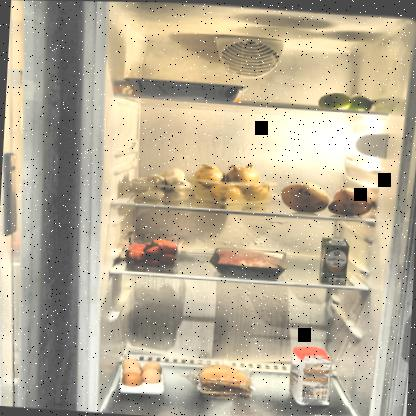eggs: (119, 355, 164, 387)
ground_beef: (208, 243, 290, 279)
heavy_cream: (318, 234, 349, 283)
lime: (316, 90, 376, 111)
mushrooms: (130, 164, 190, 202)
onion: (187, 160, 275, 205)
strawberries: (123, 233, 184, 267)
sweet_potato: (277, 177, 377, 217)
